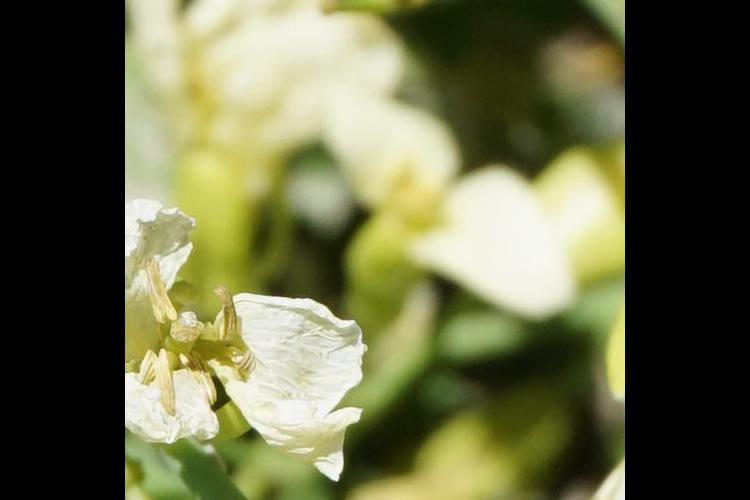white: (136, 185, 378, 469)
